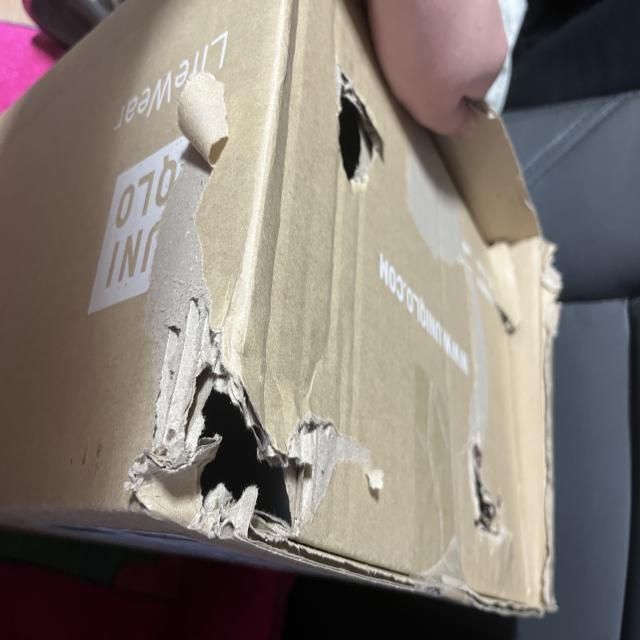hole: (147, 342, 351, 556), (330, 63, 388, 191), (461, 430, 507, 543)
